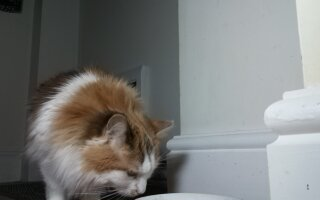clara: (27, 67, 176, 197)
